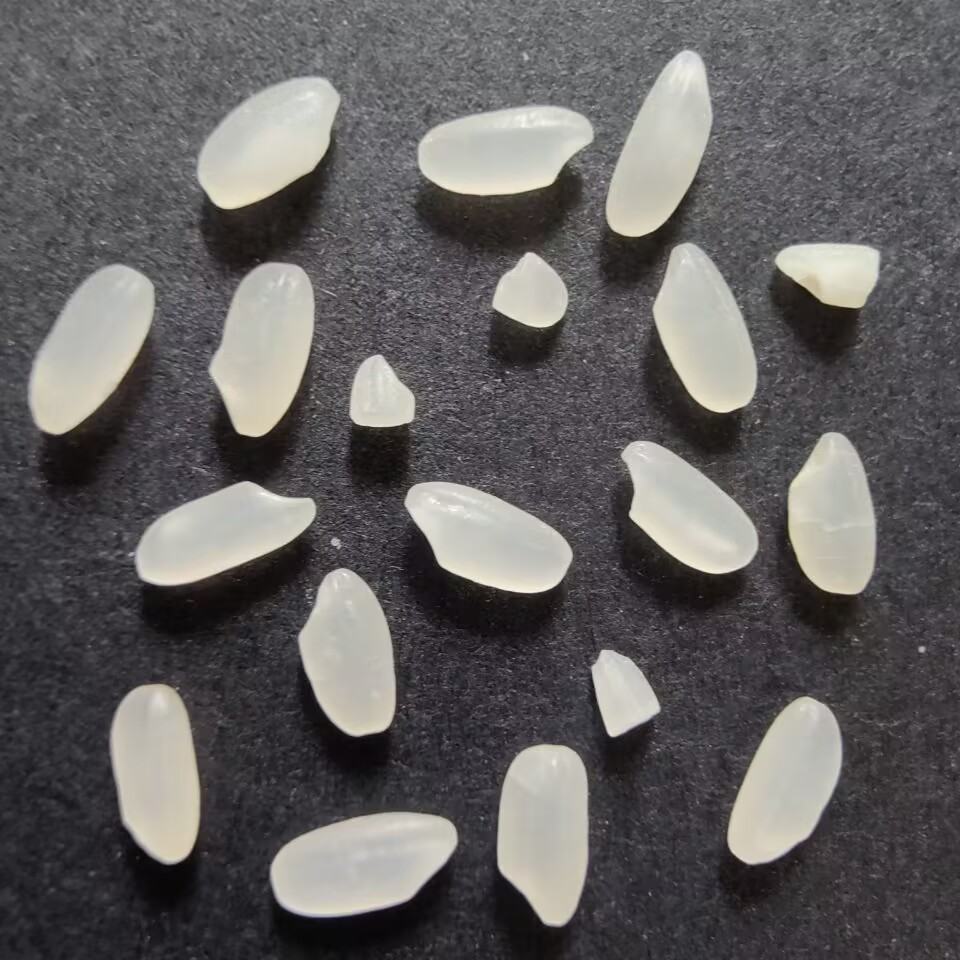broken: (771, 237, 887, 318), (584, 644, 664, 740), (489, 247, 572, 331), (344, 348, 422, 435)
rice: (25, 257, 158, 443), (599, 43, 721, 240), (262, 809, 465, 925), (190, 66, 345, 215), (129, 475, 322, 593), (722, 685, 845, 868), (202, 255, 320, 443), (399, 478, 578, 597), (619, 435, 766, 579), (645, 240, 761, 415), (493, 741, 597, 934), (106, 677, 208, 867), (294, 565, 400, 742), (415, 101, 599, 202), (782, 425, 881, 600)
